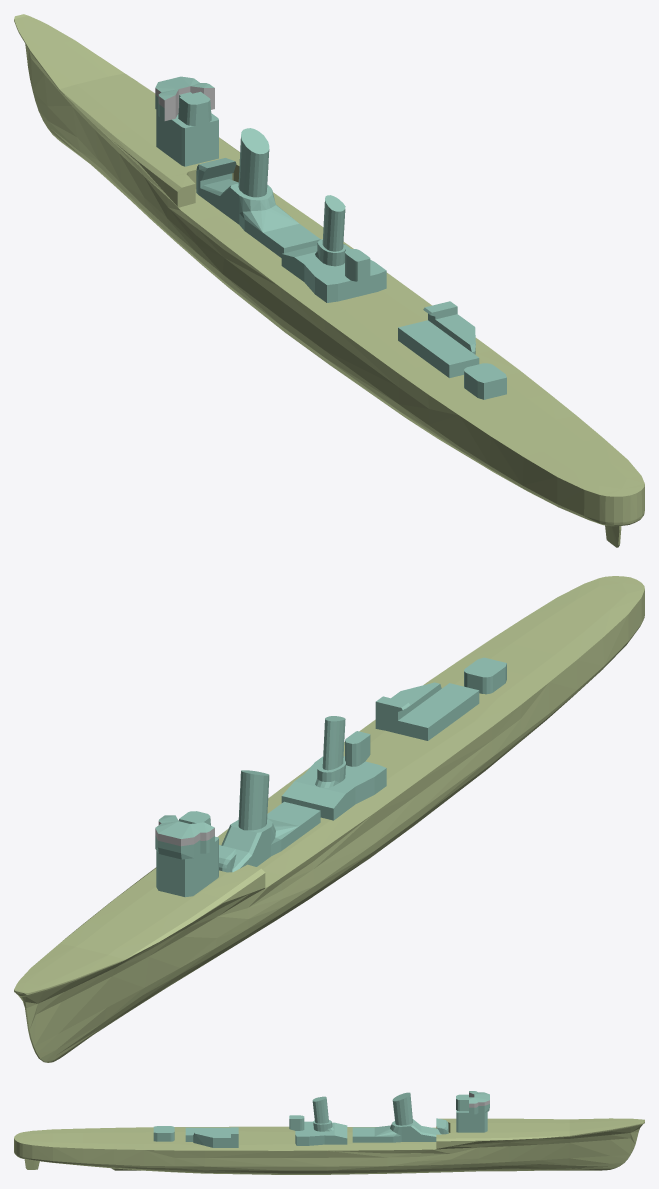
The model's file is PJSD728_armor.glb.
3 views of the same model, one above another, from view 1: azimuth 30°, elevation 25°; view 2: azimuth 150°, elevation 25°; view 3: azimuth 270°, elevation 25° (orthographic). The views are drawn at different scales.
Parts seen in each view (by area): view 1: armor; view 2: armor; view 3: armor.
Boxes of the visible parts, x1,y1,x2,y2 form: armor: (14,14,644,547); armor: (14,576,644,1062); armor: (14,1091,644,1174).
Size of the model in its own units: 18.04 by 26.84 by 200.
